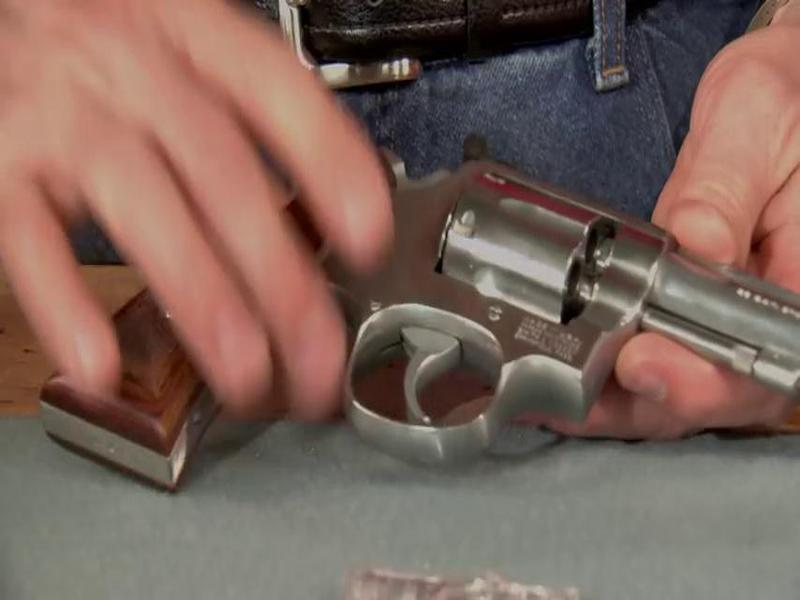Revolver: (361, 126, 797, 505)
